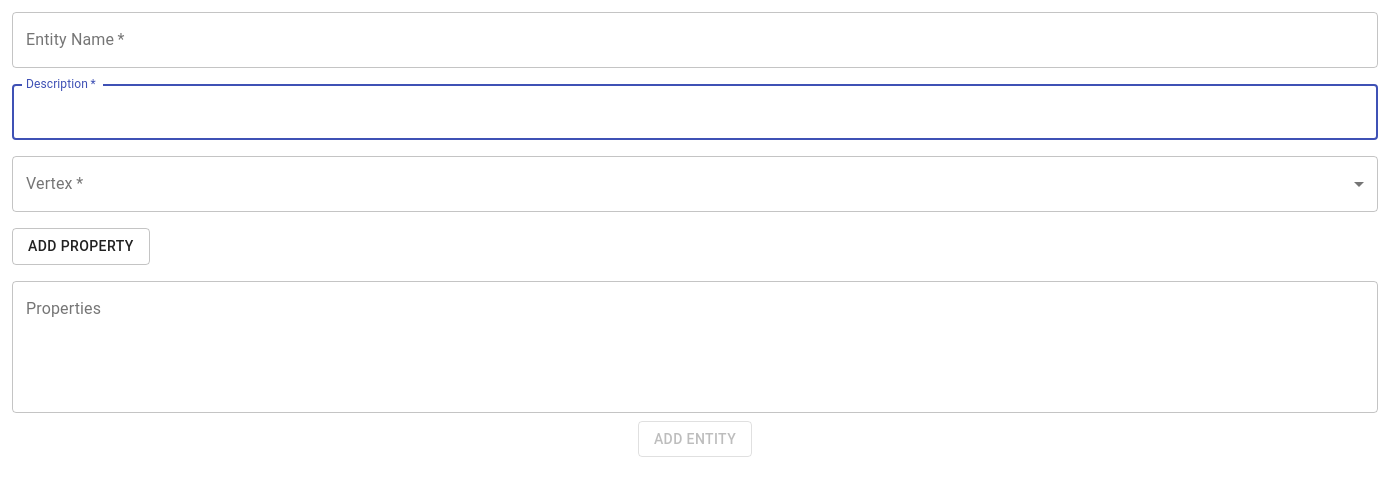
Test: Add Entity UI Component › Add Entity Inputs › should display error message when invalid entity name entered
The image size is (1390, 497).
In the field with id "entity-name-input": (695, 40) top-left (12, 12), bottom-right (1378, 68), type "entity name 1"
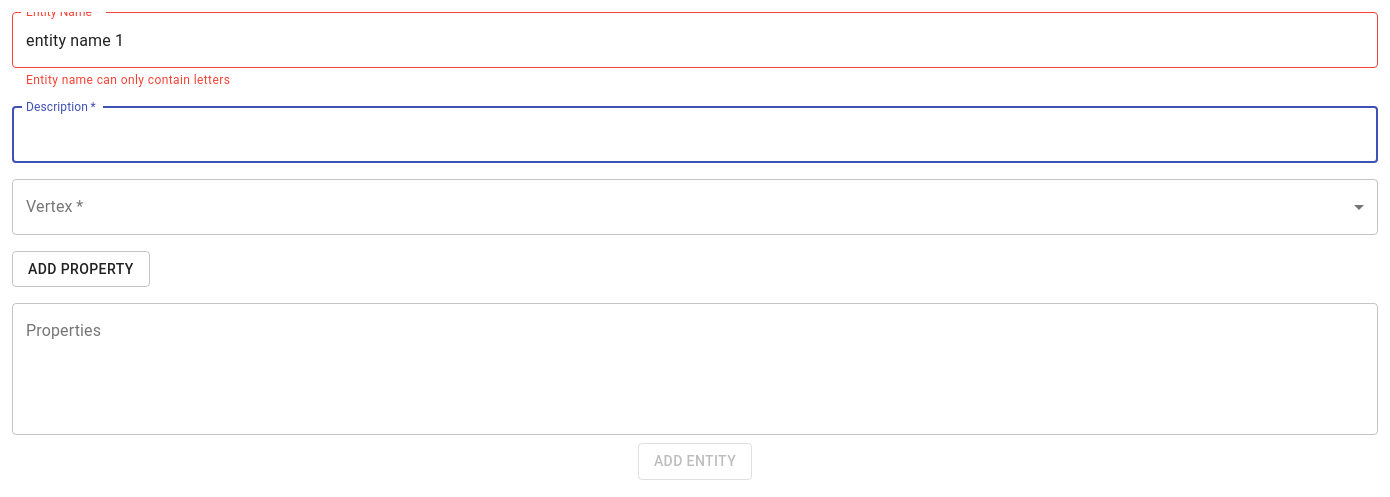
Result: the text with id "entity-name-input-helper-text" reads "Entity name can only contain letters" at top-left (26, 73), bottom-right (230, 87)
